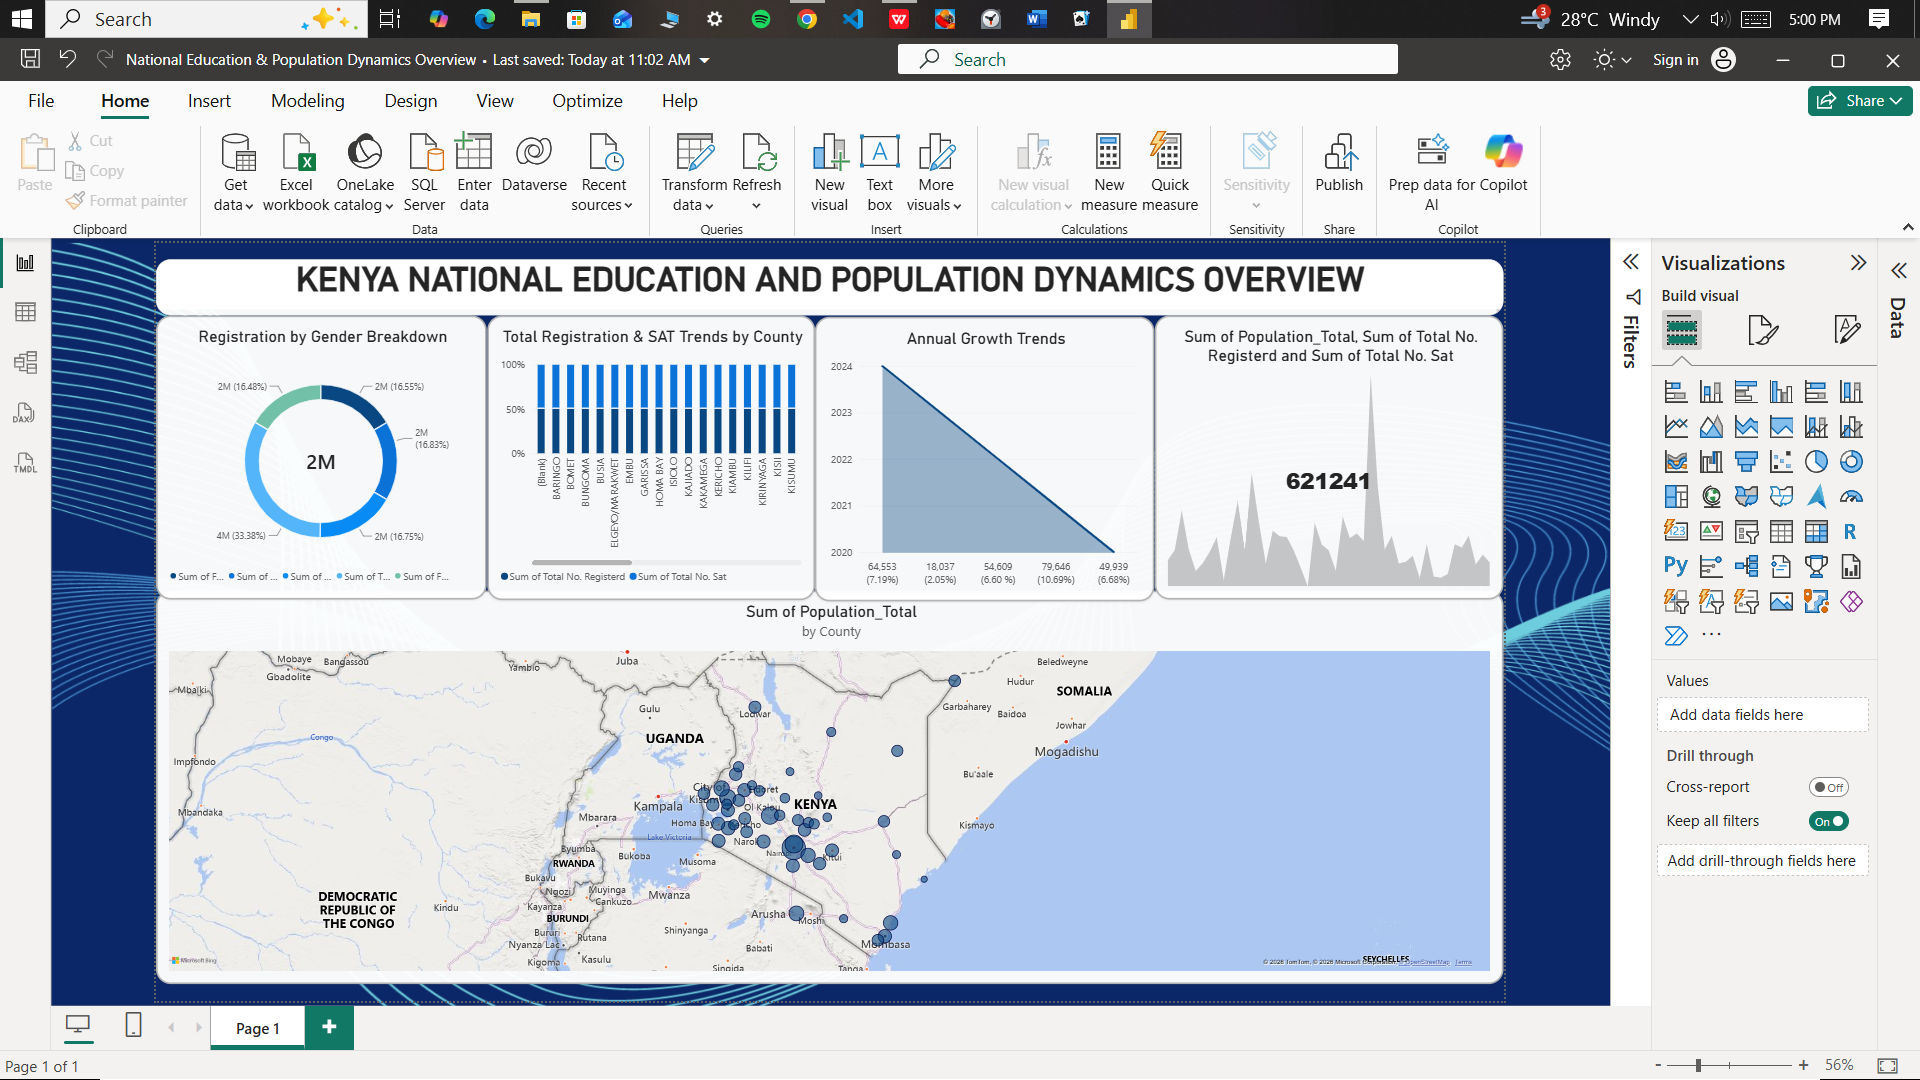

The page's visual inventory and layout, read from the dashboard file:
{"tool":"powerbi","page":{"name":"Page 1","canvas":[1920,1080],"ordinal":0},"visuals":[{"type":"map","fields":{"Category":["CountyPopulation.County"],"Size":["Sum(CountyPopulation.Population_Total)"]},"box":[0,495.1,1920,561],"z":0},{"type":"hundredPercentStackedColumnChart","title":"Total Registration & SAT Trends by County","fields":{"Category":["CountyPopulation.County"],"Y":["Sum(Table001 (Page 1).Total No. Registerd)","Sum(Table001 (Page 1).Total No. Sat)"]},"box":[471.9,102.7,467.2,405.5],"z":1000},{"type":"donutChart","title":"Registration by Gender Breakdown","fields":{"Y":["Sum(Table001 (Page 1).Females No. Registered)","Sum(Table001 (Page 1).Males No. Registered)","Sum(Table001 (Page 1).Males No. Sat)","Sum(Table001 (Page 1).Total No. Registerd)","Sum(Table001 (Page 1).Females No. Sat)"]},"box":[0,102.7,471,405],"z":2000},{"type":"stackedAreaChart","title":"Annual Growth Trends","fields":{"Category":["Table001 (Page 1).Total Increase/Decrease(%)"],"Y":["Sum(Table001 (Page 1).Year)1"]},"box":[938.4,104.5,483.7,405.5],"z":3000},{"type":"kpi","title":"Sum of Population_Total, Sum of Total No. Registerd and Sum of Total No. Sat","fields":{"Indicator":["Sum(CountyPopulation.Population_Total)"],"TrendLine":["CountyPopulation.County"]},"box":[1422.9,102.7,497,405],"z":4000},{"type":"textbox","title":"KENYA NATIONAL EDUCATION AND POPULATION DYNAMICS OVERVIEW","box":[0,23.2,1920,80.1],"z":5000}]}

Visuals, with their boxes on the page's 1920x1080 design canvas (x1, y1, x2, y2). These are canvas units, not pixel positions in the 1920x1080 screenshot, which may show the page scaled, cropped or inside an application window:
map - CountyPopulation.County x Sum(CountyPopulation.Population_Total): (0, 495, 1920, 1056)
"Total Registration & SAT Trends by County" hundredPercentStackedColumnChart: (472, 103, 939, 508)
"Registration by Gender Breakdown" donutChart: (0, 103, 471, 508)
"Annual Growth Trends" stackedAreaChart: (938, 104, 1422, 510)
"Sum of Population_Total, Sum of Total No. Registerd and Sum of Total No. Sat" kpi: (1423, 103, 1920, 508)
"KENYA NATIONAL EDUCATION AND POPULATION DYNAMICS OVERVIEW" textbox: (0, 23, 1920, 103)
